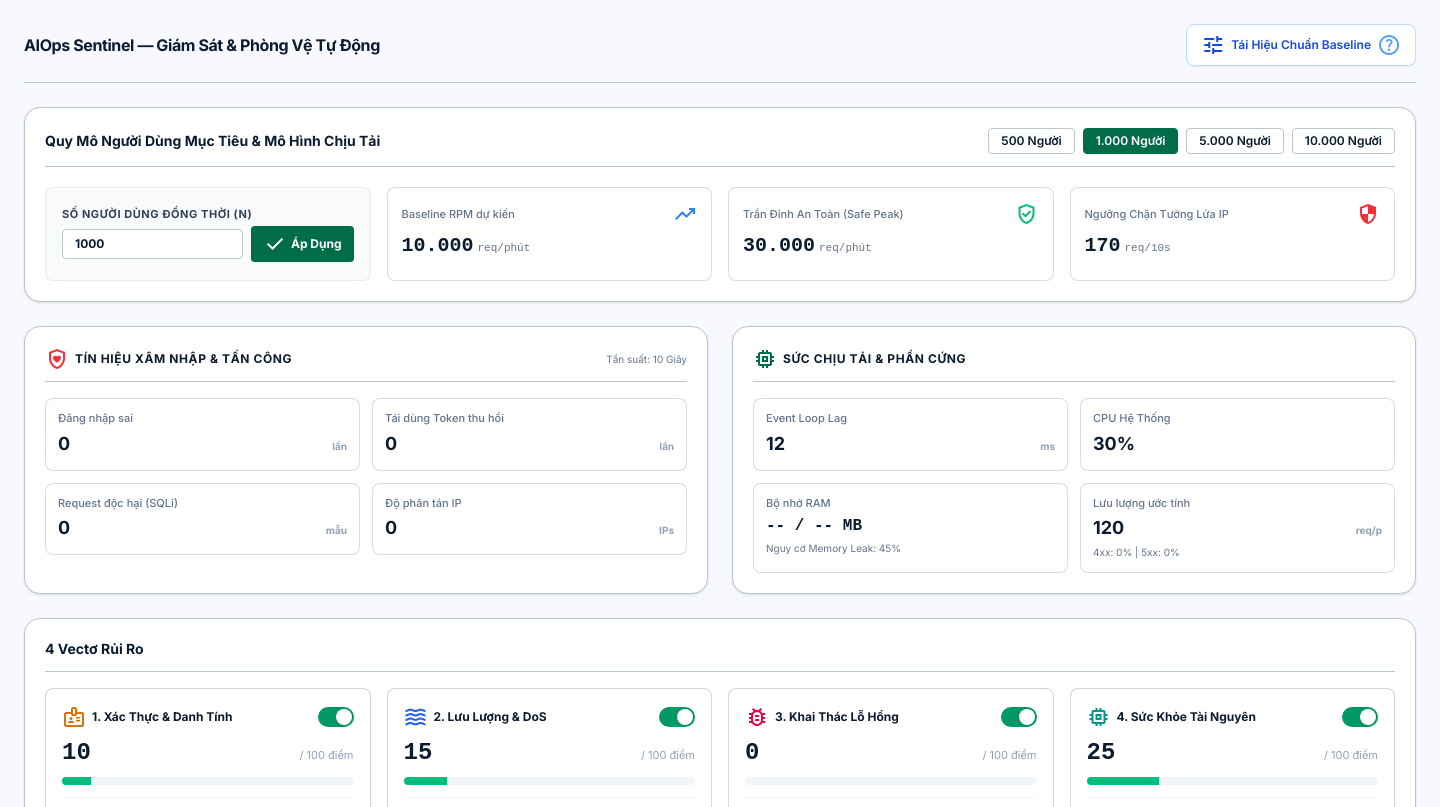
Test: Admin-web AIOps Suite — AIOpsPage (4-Vector Risk & Quarantine Shield) › 5.21. Kiểm thử 2 Tầng (2-Tier Verification): Tắt Vector Resource lập tức hạ Threat Score và cập nhật UI sang trạng thái An toàn
The image size is (1440, 807).
Thao tác: Bấm vào toggle của Vector 4 (Resource)
Click the switch with test id "toggle-vector-resource" at (1360, 717), box [1342,707,1378,727]
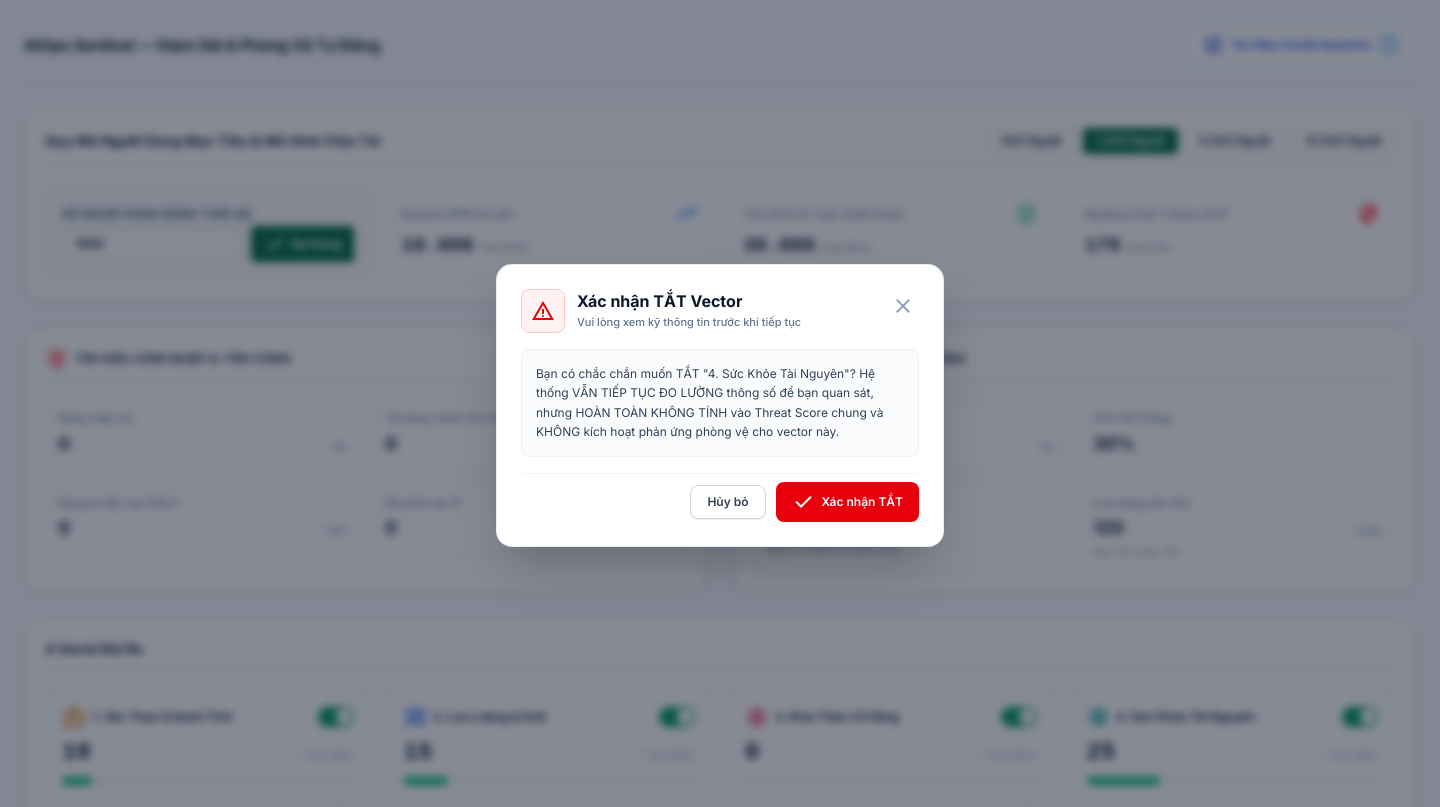
expect the heading "Xác nhận TẮT Vector" is shown: met, box [577,291,742,311]
Click nút xác nhận trong Modal
Click the button "Xác nhận TẮT" at (847, 502), box [776,482,919,522]
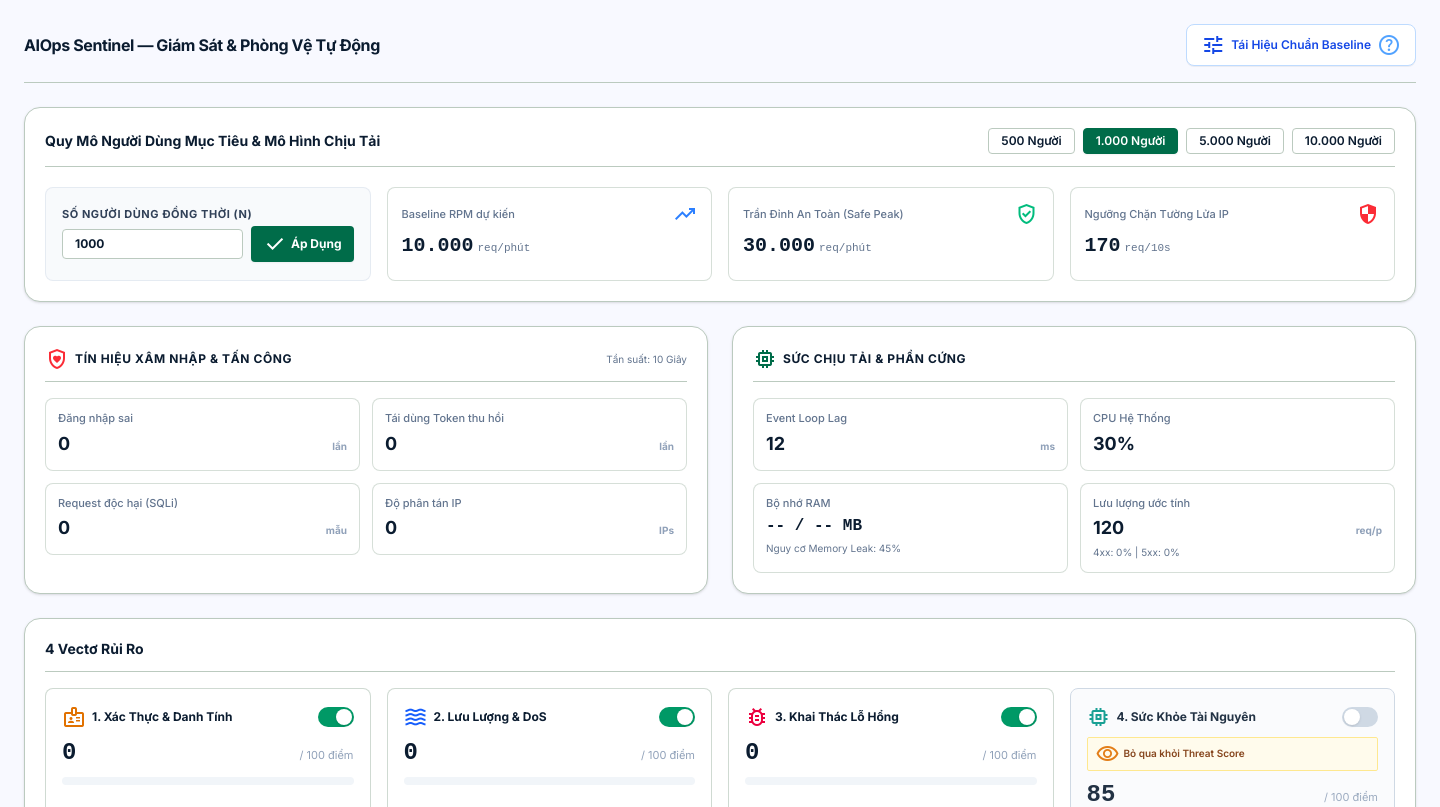
expect the heading "Xác nhận TẮT Vector" is gone: met
